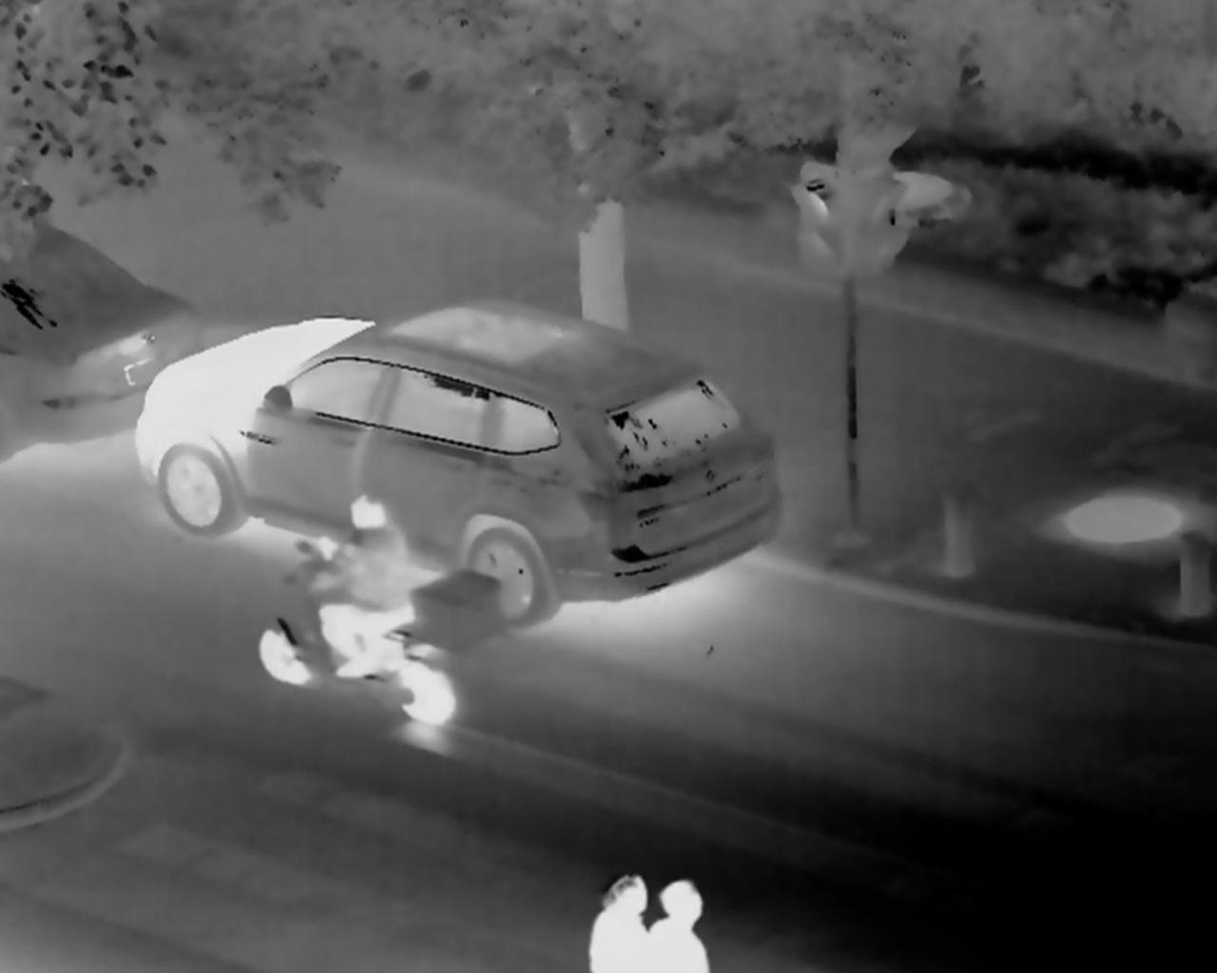person: (304, 486, 417, 679), (637, 869, 716, 973), (588, 863, 647, 973)
